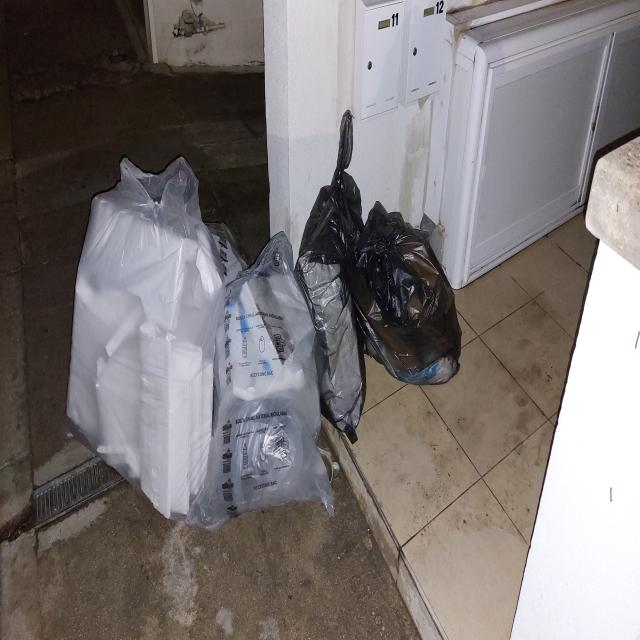Mixed Waste -Black Bag-: (298, 110, 368, 458), (358, 201, 468, 383)
Recycled Waste -Grey or Green Bag-: (65, 152, 224, 542), (200, 227, 338, 530)
